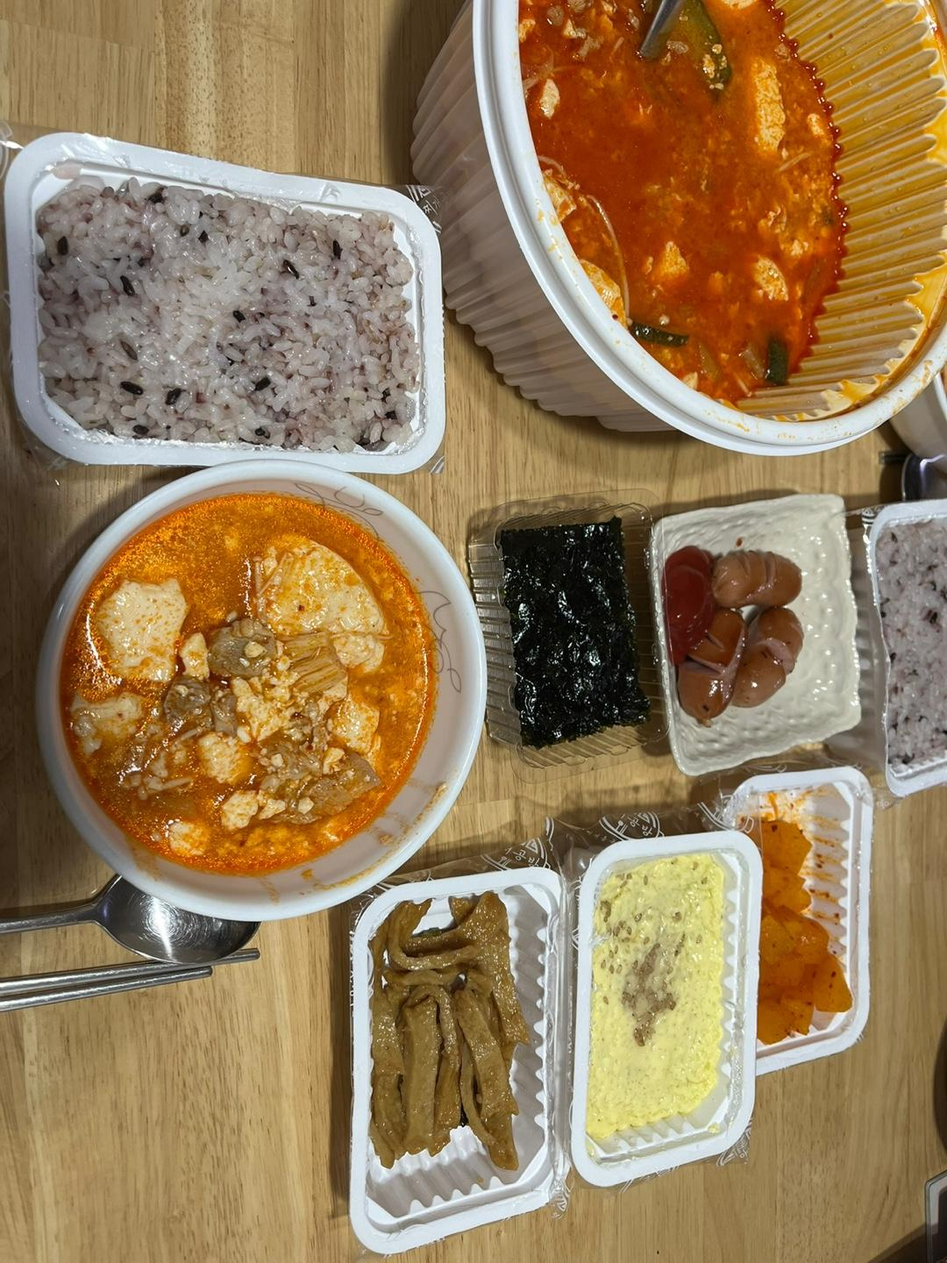Lunch Box: (412, 0, 946, 453), (36, 460, 485, 921), (4, 132, 445, 473), (350, 867, 563, 1253), (570, 831, 761, 1187), (466, 490, 667, 785), (651, 495, 859, 774), (724, 767, 872, 1073), (828, 499, 946, 796)
